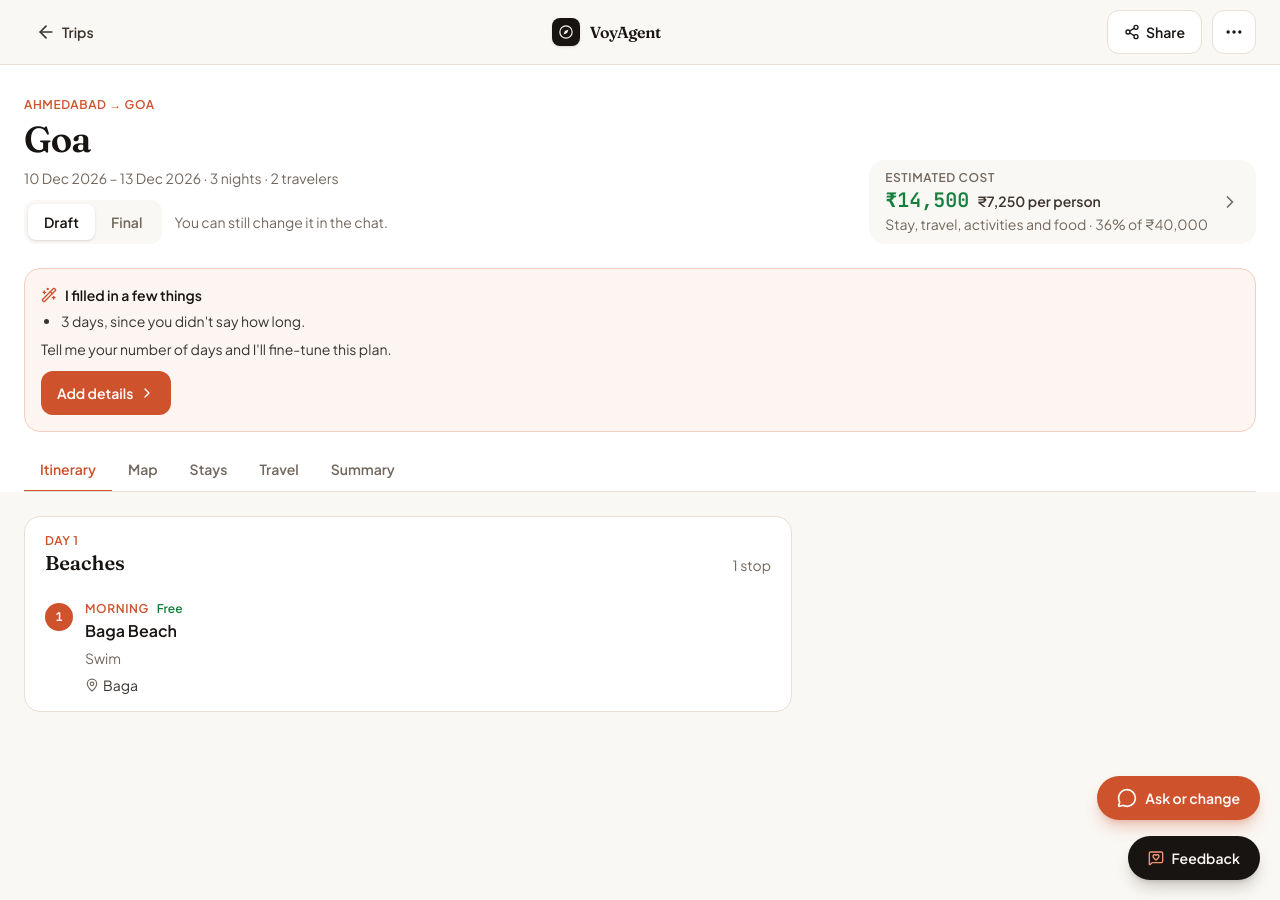
Test: Trip page actions › opens the trip actions as a sheet and asks before deleting
Click the button named "More trip actions": (1234, 32) [1212,10,1256,54]
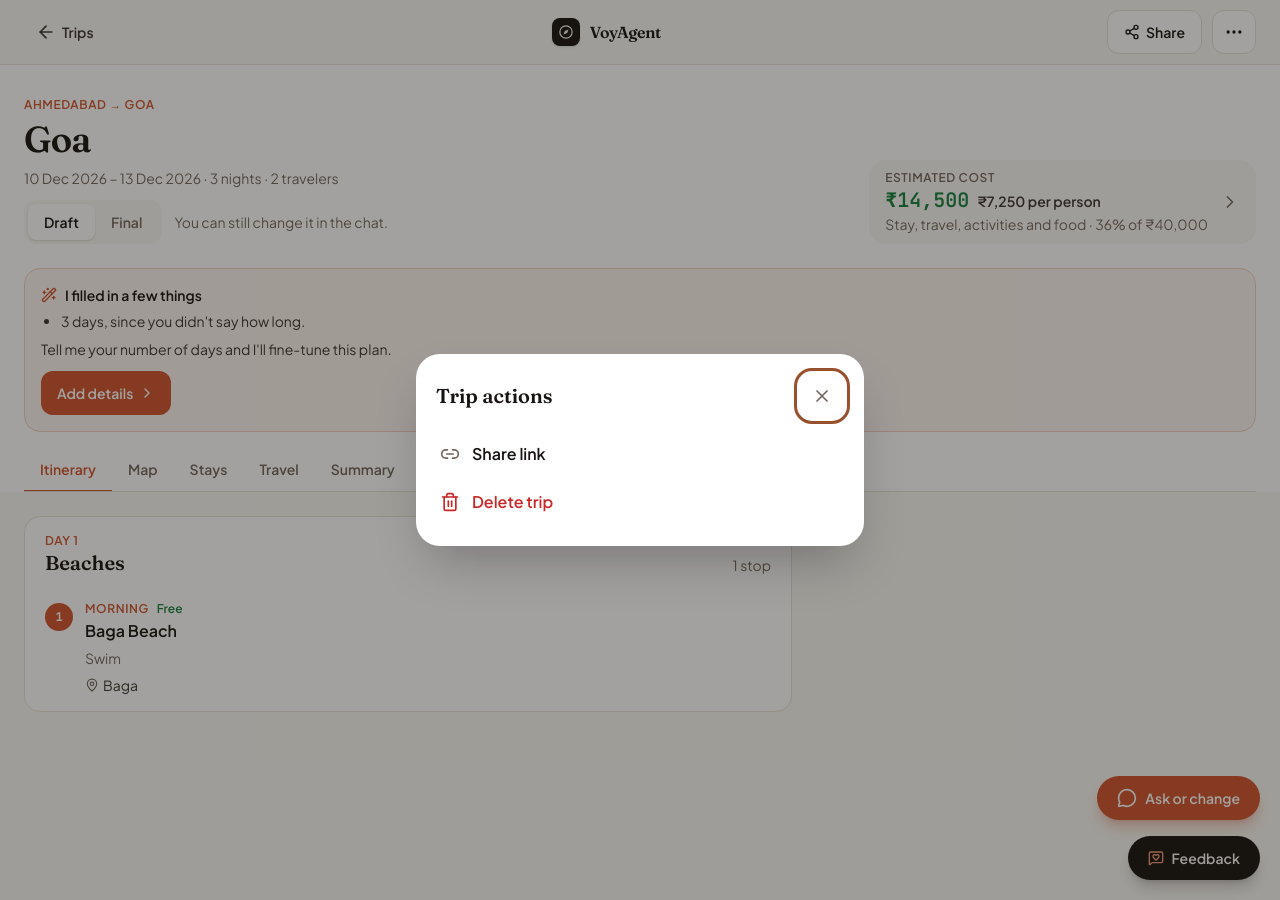
expect the dialog "Trip actions" is shown: met, box [416,354,864,546]
Click the button "Delete trip": (513, 502) [428,478,852,526]
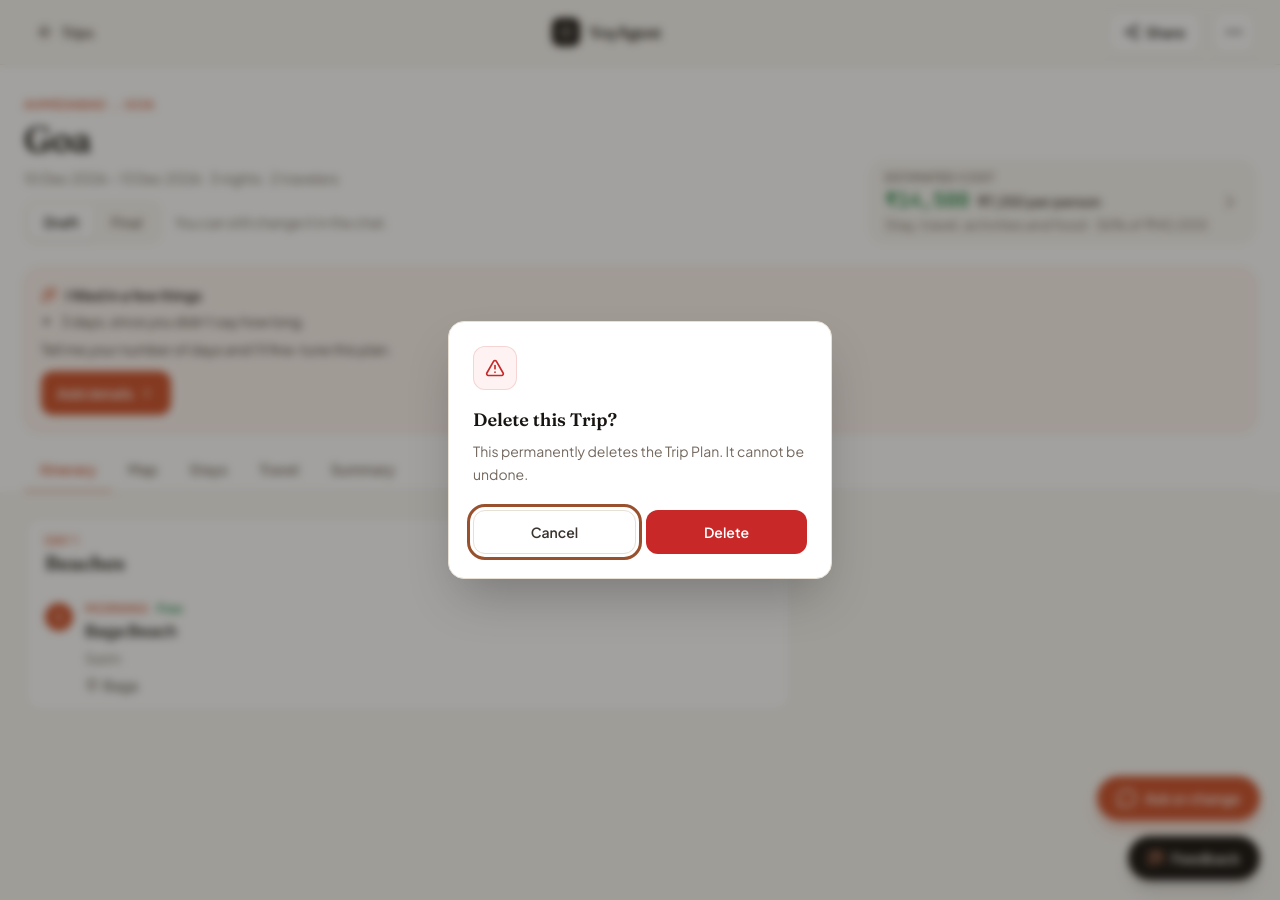
expect the dialog "Delete this Trip?" is shown: met
